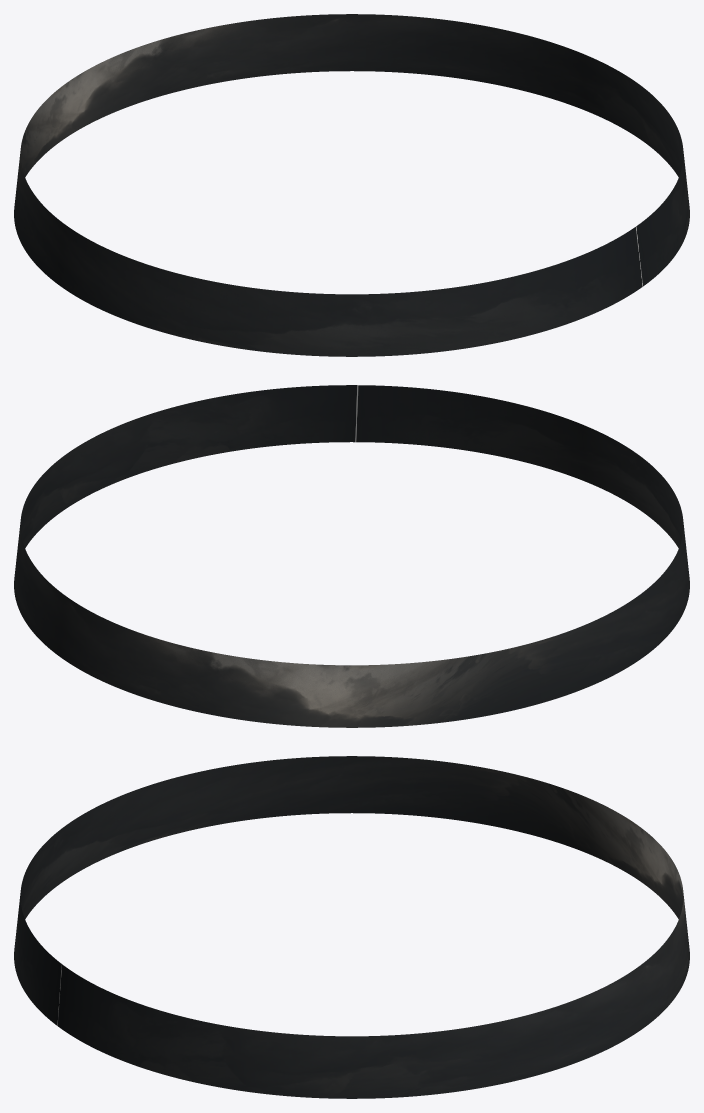
File: SkyCloud2.fbx
The picture shows the model from 3 angles, top to bottom: view 1: azimuth 30°, elevation 25°; view 2: azimuth 150°, elevation 25°; view 3: azimuth 270°, elevation 25°; orthographic projection.
Visible parts, largest first — view 1: Sphere; view 2: Sphere; view 3: Sphere.
Boxes of the visible parts, x1=… form: Sphere: x1=14, y1=14, x2=689, y2=356; Sphere: x1=14, y1=385, x2=689, y2=727; Sphere: x1=14, y1=756, x2=689, y2=1098.
Bounding box in the file's own units: 200 × 19.51 × 200.
Materials: 1 (1 with a texture image).
